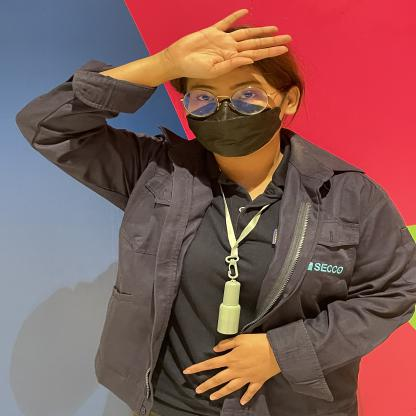Sick: (132, 5, 306, 82)
